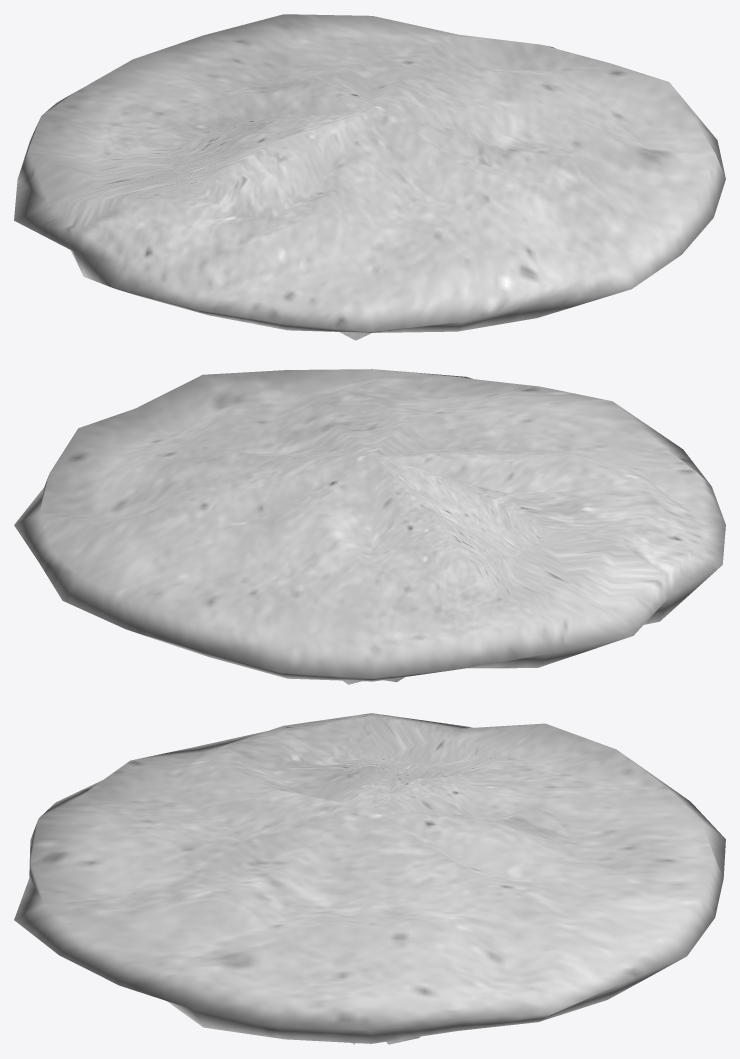
File: FlatRock1.fbx
3 views of the same model, one above another, from view 1: azimuth 30°, elevation 25°; view 2: azimuth 150°, elevation 25°; view 3: azimuth 270°, elevation 25° (orthographic).
Parts seen in each view (by area): view 1: Circle.004; view 2: Circle.004; view 3: Circle.004.
Boxes of the visible parts, x1,y1,x2,y2 form: Circle.004: [14, 14, 725, 340]; Circle.004: [14, 369, 725, 684]; Circle.004: [14, 713, 725, 1044].
Bounding box in the file's own units: 7526 × 2437 × 7595.
